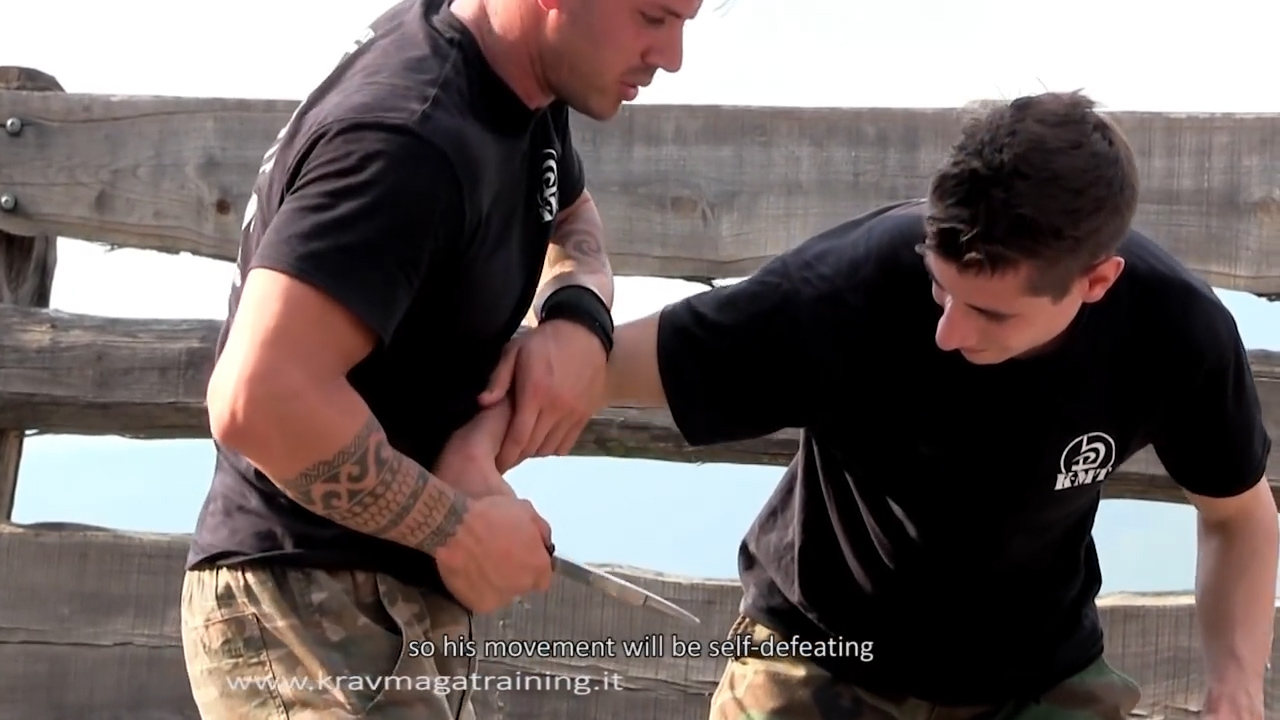knife: (484, 491, 711, 630)
